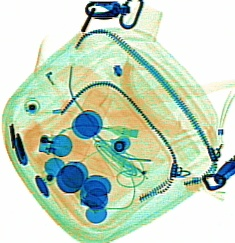lighter: (36, 127, 127, 176)
